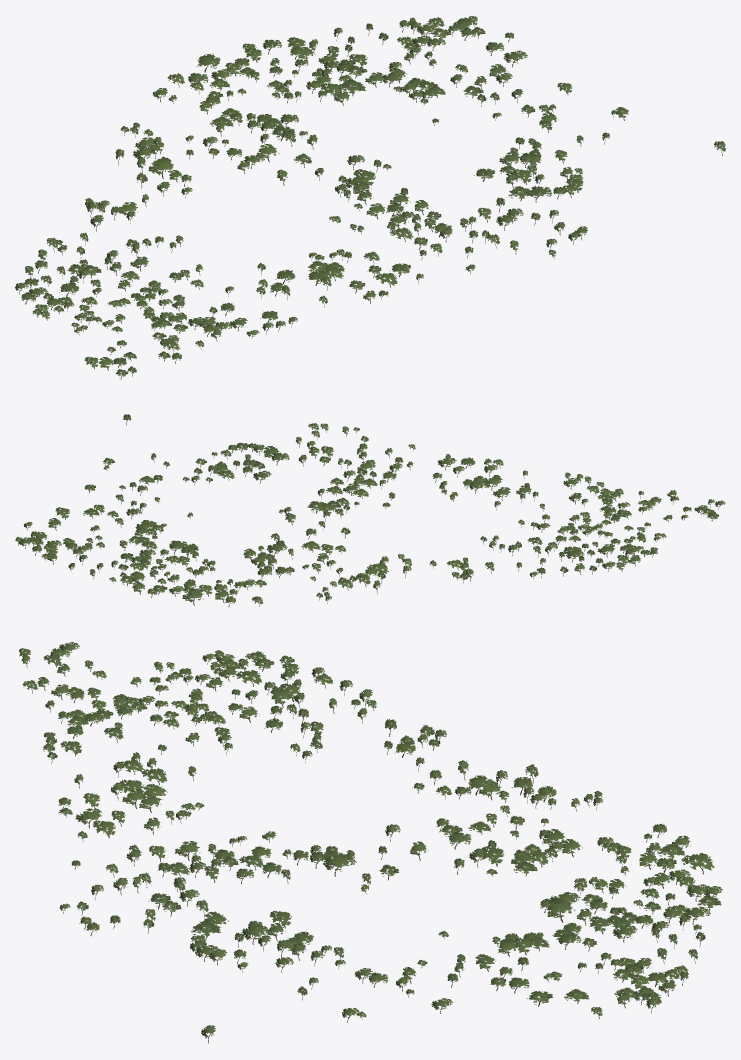
The picture shows the model from 3 angles, top to bottom: view 1: azimuth 30°, elevation 25°; view 2: azimuth 150°, elevation 25°; view 3: azimuth 270°, elevation 25°; orthographic projection. The views are drawn at different scales.
Parts seen in each view (by area): view 1: tree_small_02 2 0 crown, tree_small_02 0 2 crown, tree_small_02 2 1 crown, tree_small_02 0 1 crown, tree_small_02 2 2 crown, tree_small_02 3 0 crown, tree_small_02 1 2 crown, tree_small_02 1 0 crown, tree_small_02 1 1 crown, tree_small_02 3 1 crown; view 2: tree_small_02 2 0 crown, tree_small_02 0 2 crown, tree_small_02 0 1 crown, tree_small_02 2 1 crown, tree_small_02 2 2 crown, tree_small_02 1 2 crown, tree_small_02 1 0 crown, tree_small_02 3 0 crown, tree_small_02 1 1 crown, tree_small_02 3 1 crown; view 3: tree_small_02 2 0 crown, tree_small_02 0 2 crown, tree_small_02 0 1 crown, tree_small_02 2 2 crown, tree_small_02 2 1 crown, tree_small_02 1 2 crown, tree_small_02 1 0 crown, tree_small_02 3 0 crown, tree_small_02 1 1 crown, tree_small_02 3 1 crown.
Part boxes in pixels (<box>): tree_small_02 2 0 crown: <box>188,23,445,142</box>; tree_small_02 0 2 crown: <box>32,270,273,377</box>; tree_small_02 2 1 crown: <box>294,118,573,219</box>; tree_small_02 0 1 crown: <box>15,198,163,306</box>; tree_small_02 2 2 crown: <box>389,178,587,271</box>; tree_small_02 3 0 crown: <box>397,16,527,96</box>; tree_small_02 1 2 crown: <box>196,222,426,327</box>; tree_small_02 1 0 crown: <box>115,73,269,175</box>; tree_small_02 1 1 crown: <box>118,144,364,248</box>; tree_small_02 3 1 crown: <box>477,82,628,174</box>; tree_small_02 2 0 crown: <box>68,520,287,602</box>; tree_small_02 0 2 crown: <box>530,476,725,556</box>; tree_small_02 0 1 crown: <box>452,535,640,579</box>; tree_small_02 2 1 crown: <box>187,449,368,540</box>; tree_small_02 2 2 crown: <box>236,423,415,487</box>; tree_small_02 1 2 crown: <box>379,454,583,524</box>; tree_small_02 1 0 crown: <box>225,548,388,604</box>; tree_small_02 3 0 crown: <box>15,504,141,561</box>; tree_small_02 1 1 crown: <box>301,492,498,573</box>; tree_small_02 3 1 crown: <box>85,452,217,509</box>; tree_small_02 2 0 crown: <box>469,843,722,959</box>; tree_small_02 0 2 crown: <box>18,642,235,744</box>; tree_small_02 0 1 crown: <box>218,651,446,748</box>; tree_small_02 2 2 crown: <box>59,841,234,958</box>; tree_small_02 2 1 crown: <box>222,841,464,958</box>; tree_small_02 1 2 crown: <box>43,741,232,854</box>; tree_small_02 1 0 crown: <box>468,764,690,854</box>; tree_small_02 3 0 crown: <box>475,952,688,1015</box>; tree_small_02 1 1 crown: <box>229,741,471,856</box>; tree_small_02 3 1 crown: <box>237,950,465,1017</box>.
Size of the model in its own units: 604 by 14 by 459.
Materials: 2 (2 with a texture image).
